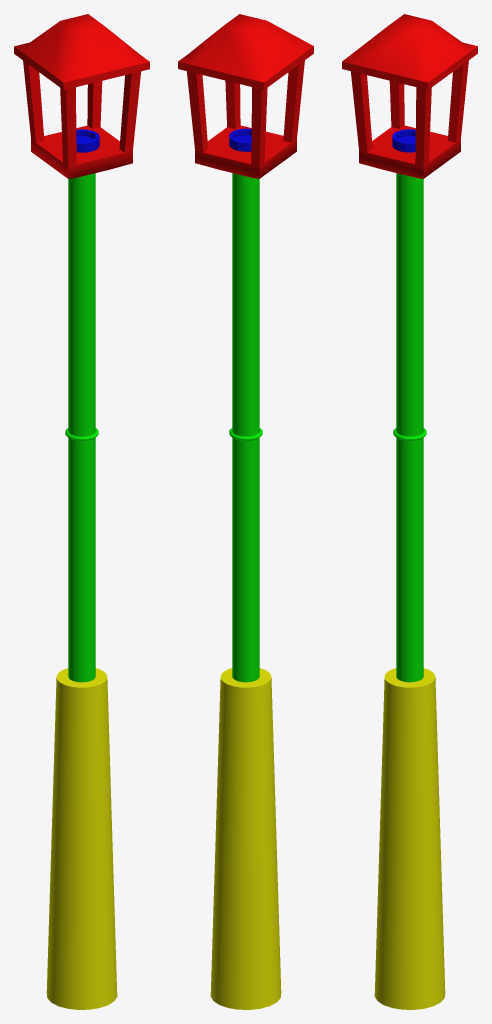
The model's file is lamp_resized_uvs.fbx.
The picture shows the model from 3 angles, left to right: view 1: azimuth 30°, elevation 25°; view 2: azimuth 150°, elevation 25°; view 3: azimuth 330°, elevation 25°; orthographic projection.
Visible parts, largest first — view 1: polySurface1; view 2: polySurface1; view 3: polySurface1.
Boxes of the visible parts, x1=… form: polySurface1: x1=14, y1=14, x2=149, y2=1009; polySurface1: x1=178, y1=14, x2=313, y2=1009; polySurface1: x1=342, y1=14, x2=477, y2=1009.
Size of the model in its own units: 85.64 by 923 by 85.64.
